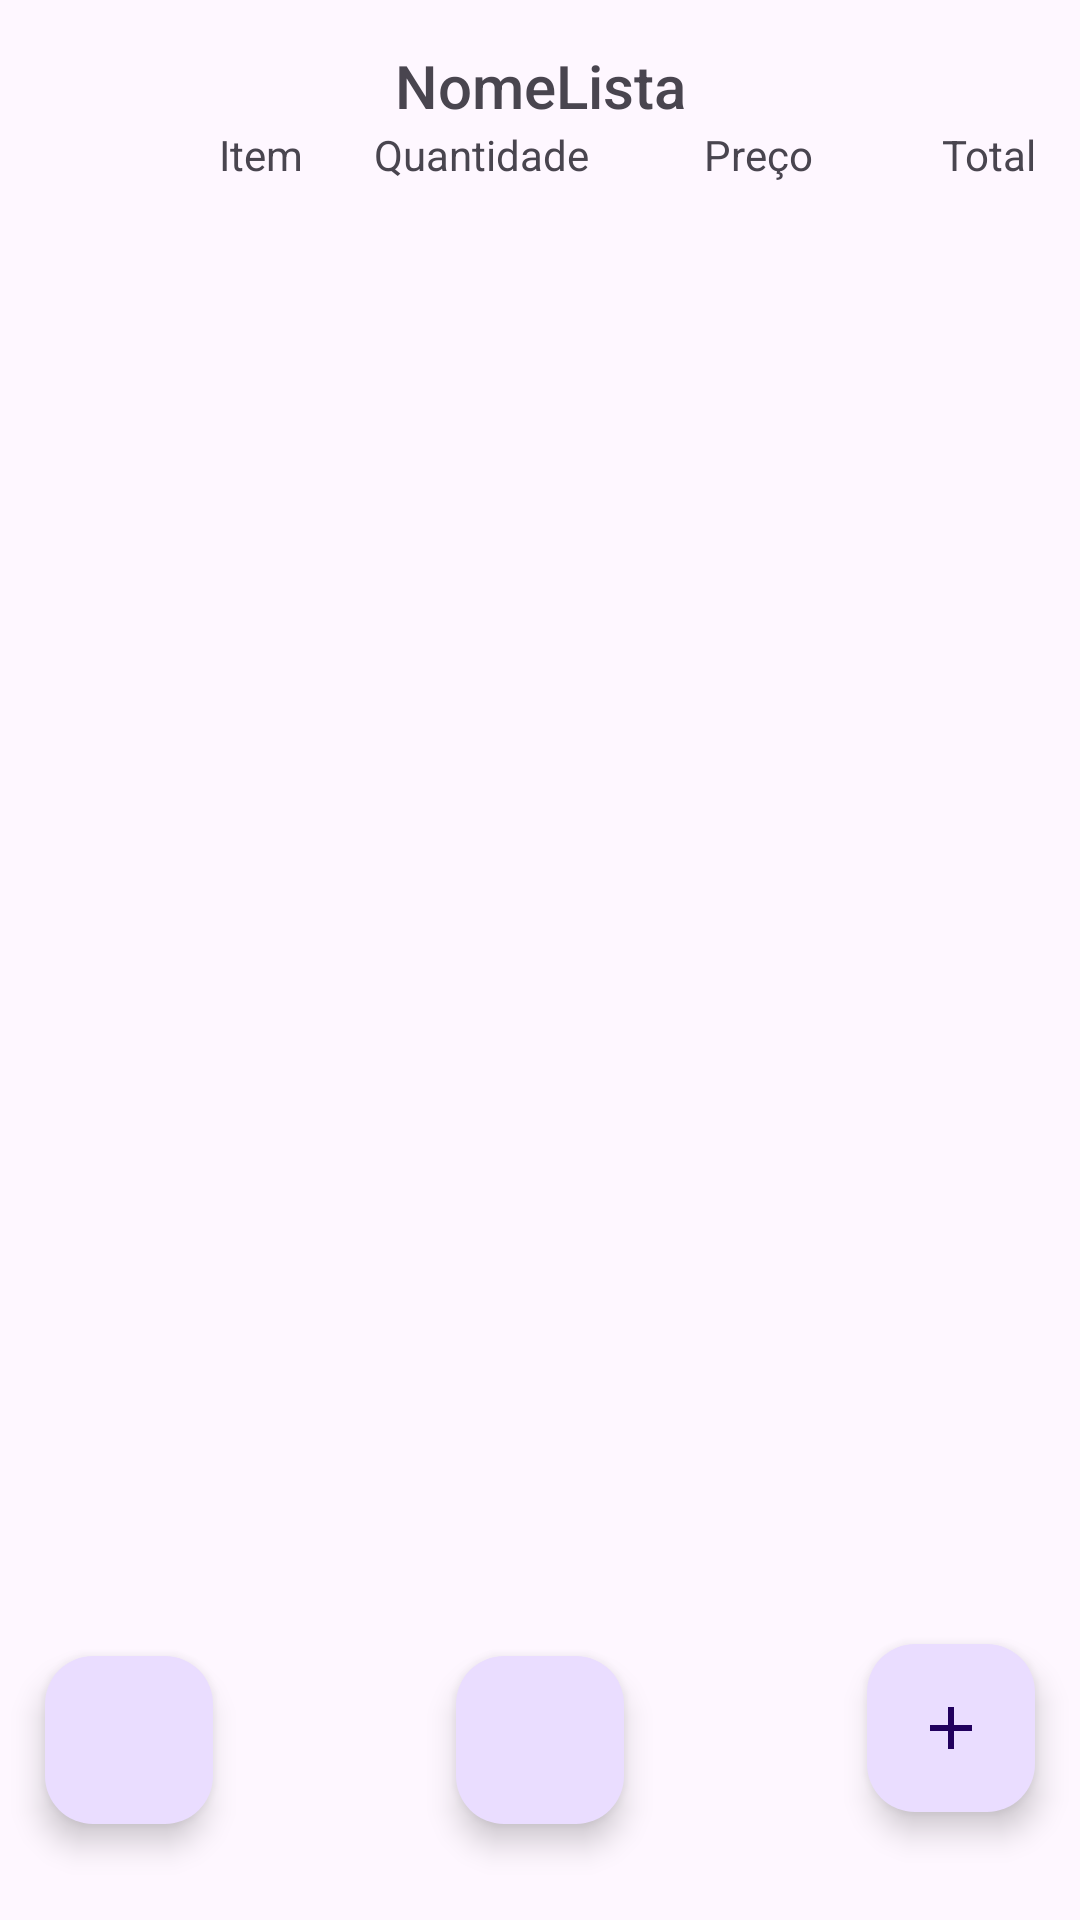

Screen size 1080 × 1920. Icon name, then its box in pixels as (x1, y1, x2, y2):
Adicionar Item: (867, 1644, 1035, 1812)
